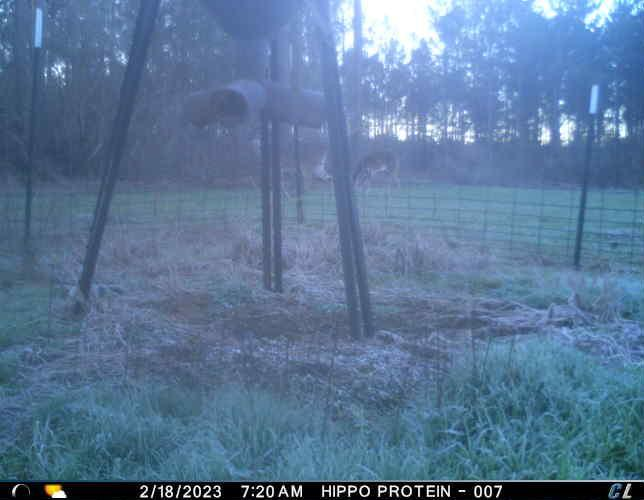Deer: (248, 127, 334, 197), (351, 149, 408, 196)
